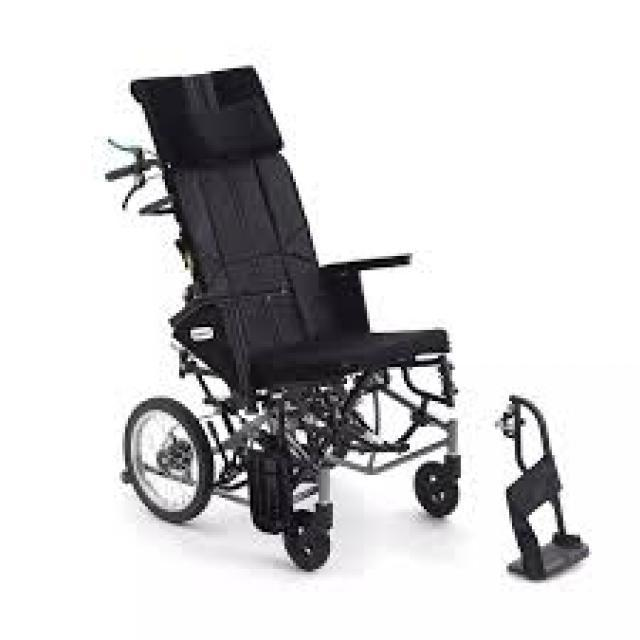wheelchair: (51, 57, 475, 574)
